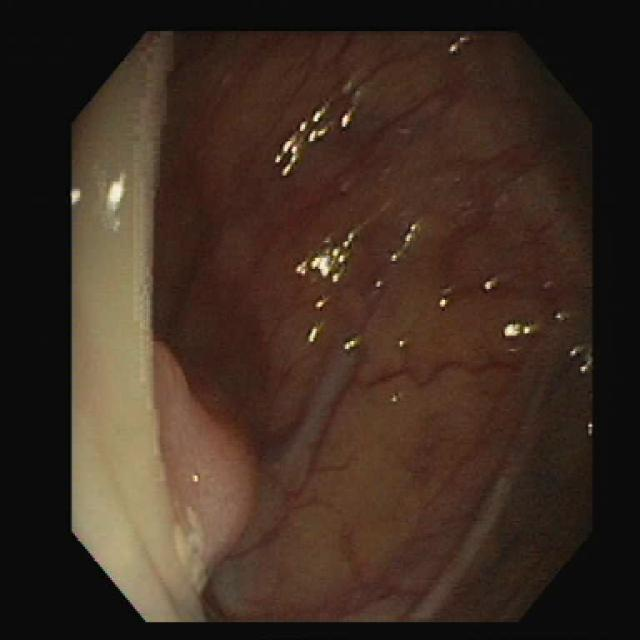tumor: (153, 340, 257, 587)
